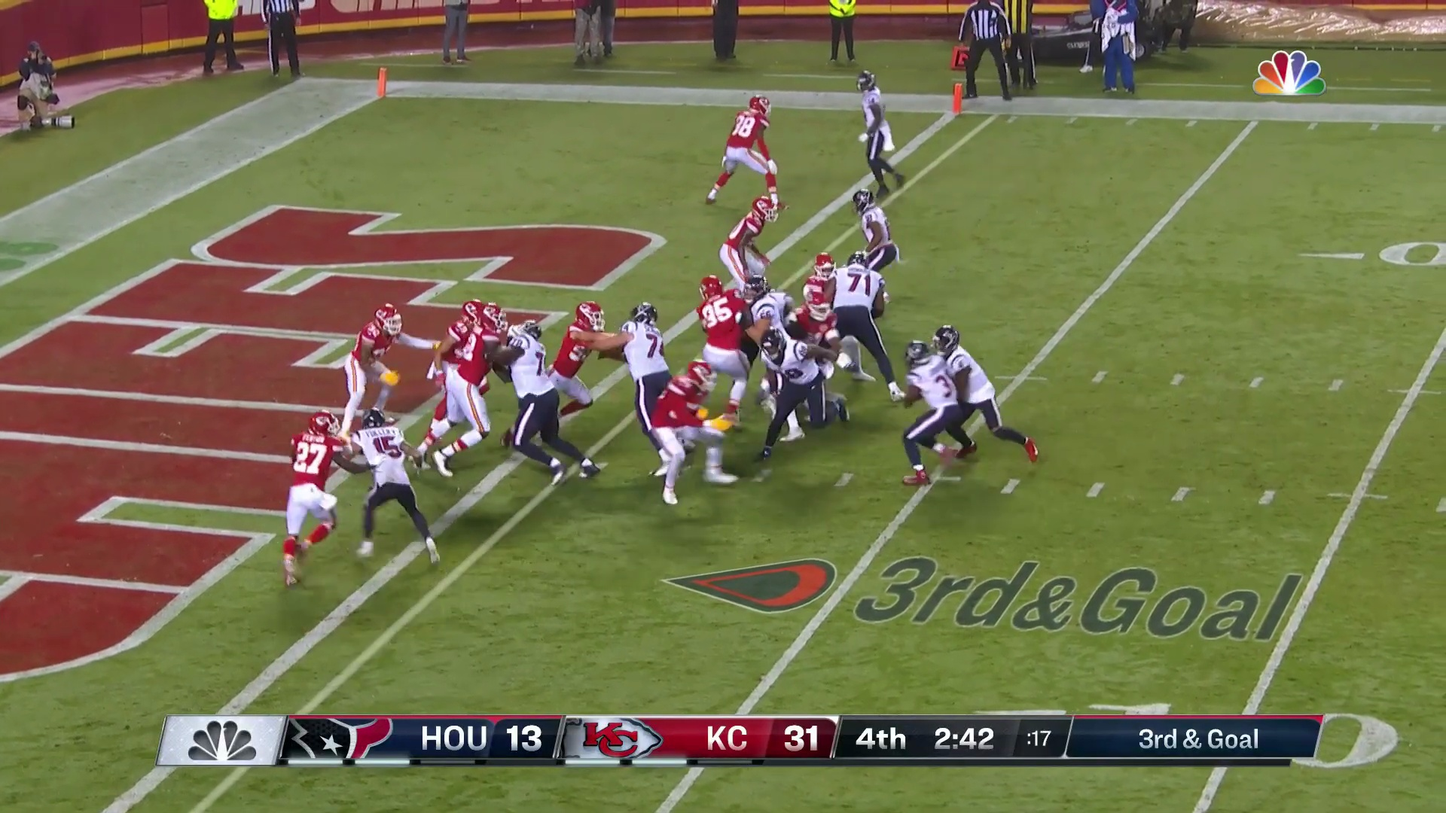Player: (650, 359, 723, 502), (284, 412, 339, 585), (427, 304, 489, 454), (930, 326, 1000, 457), (353, 409, 412, 554), (904, 340, 962, 481), (760, 332, 829, 450), (834, 253, 894, 385), (343, 305, 401, 431), (699, 277, 749, 419), (508, 321, 559, 452), (720, 193, 777, 292), (747, 288, 793, 402), (793, 254, 839, 367), (853, 189, 898, 272)
